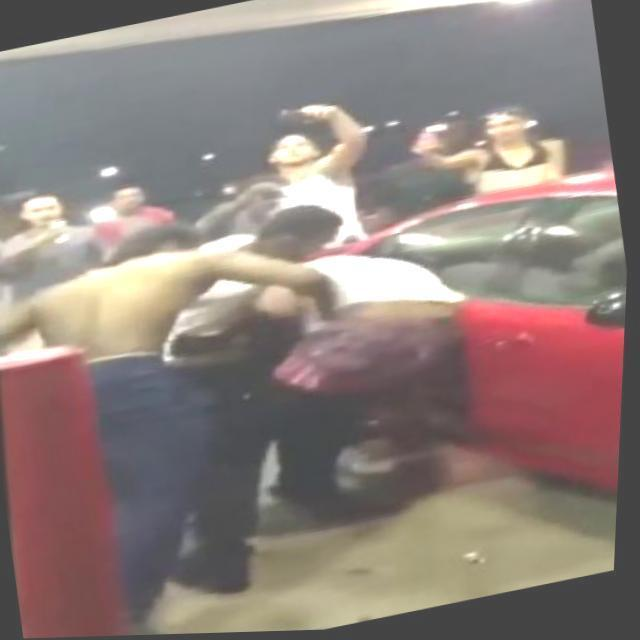fight: (144, 157, 521, 602)
